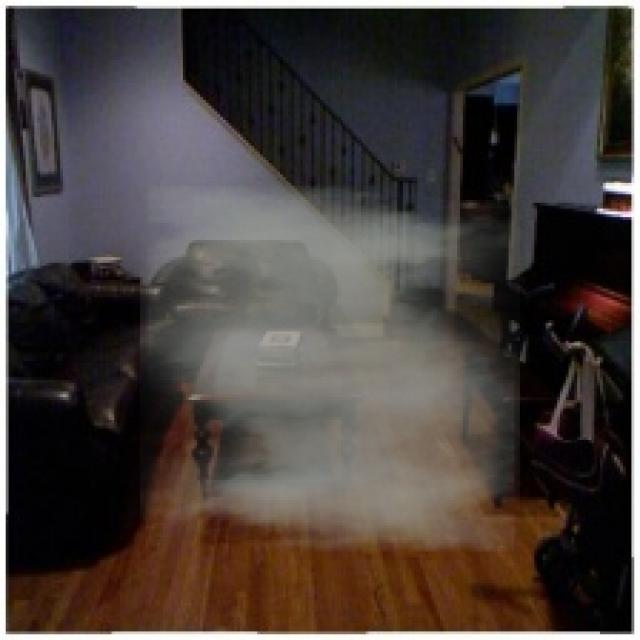smoke: (140, 186, 520, 551)
